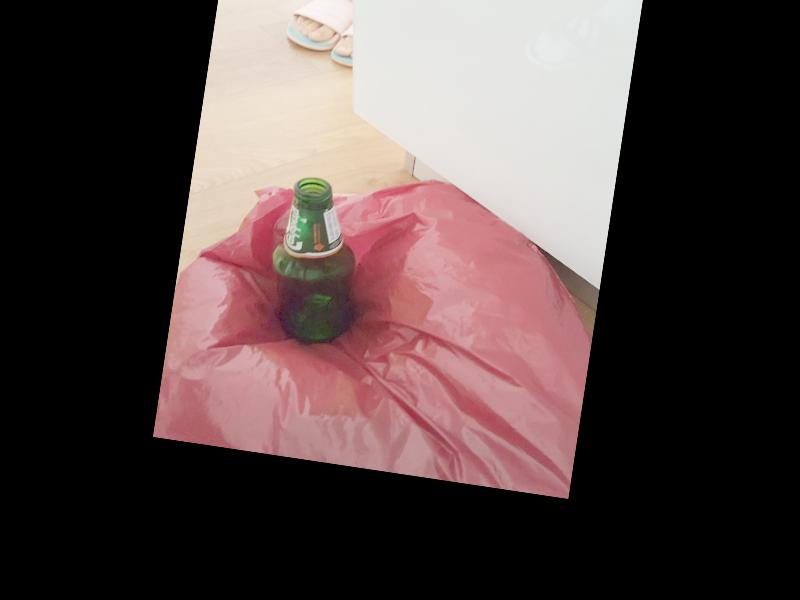Beer: (261, 174, 373, 350)
